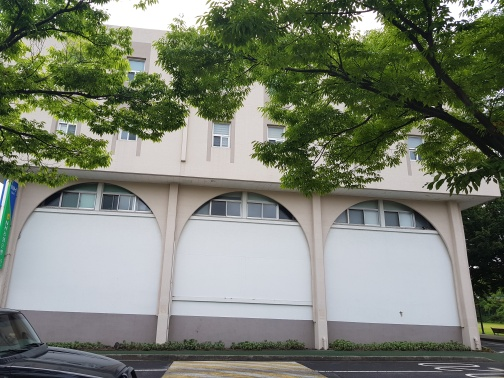Main Building of University: (9, 12, 502, 362), (36, 169, 448, 248)
